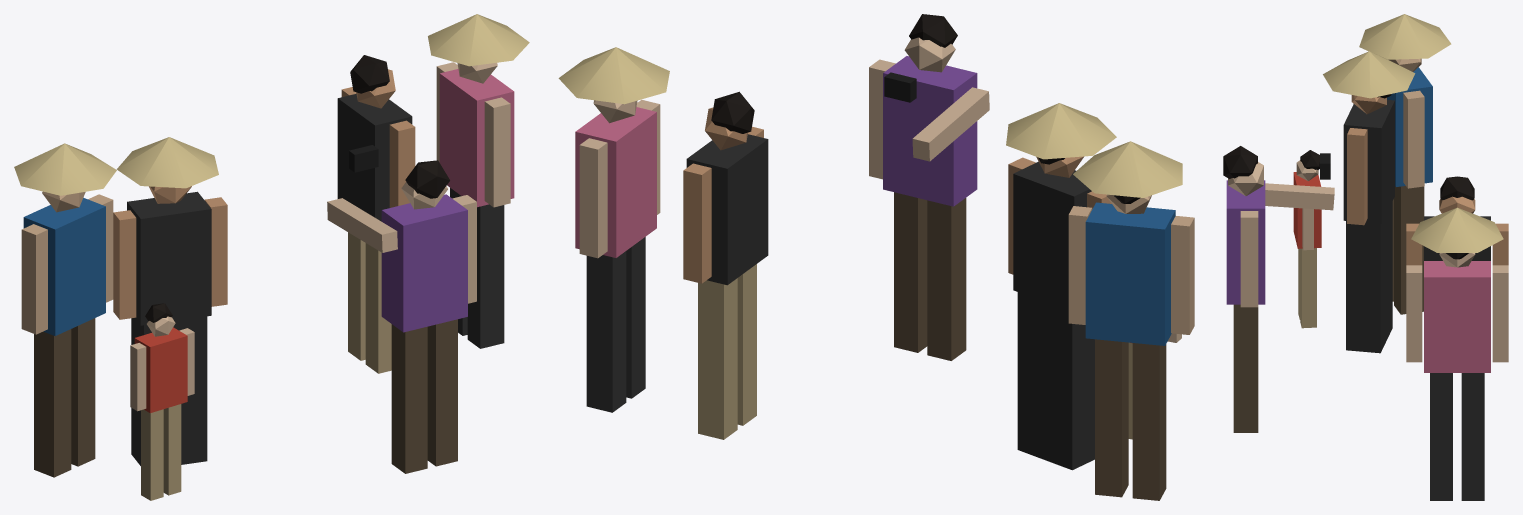
The model's file is hoi_an_crowd.glb.
3 views of the same model, side by side, from view 1: azimuth 30°, elevation 25°; view 2: azimuth 150°, elevation 25°; view 3: azimuth 270°, elevation 25° (orthographic). The views are drawn at different scales.
Visible parts, largest first — view 1: HoiAnCrowd_mat0; view 2: HoiAnCrowd_mat0; view 3: HoiAnCrowd_mat0.
Part boxes in pixels (x1=…): HoiAnCrowd_mat0: x1=14, y1=14, x2=529, y2=500; HoiAnCrowd_mat0: x1=558, y1=14, x2=1194, y2=500; HoiAnCrowd_mat0: x1=1223, y1=14, x2=1508, y2=500.
Size of the model in its own units: 3.13 by 1.8 by 1.62.
